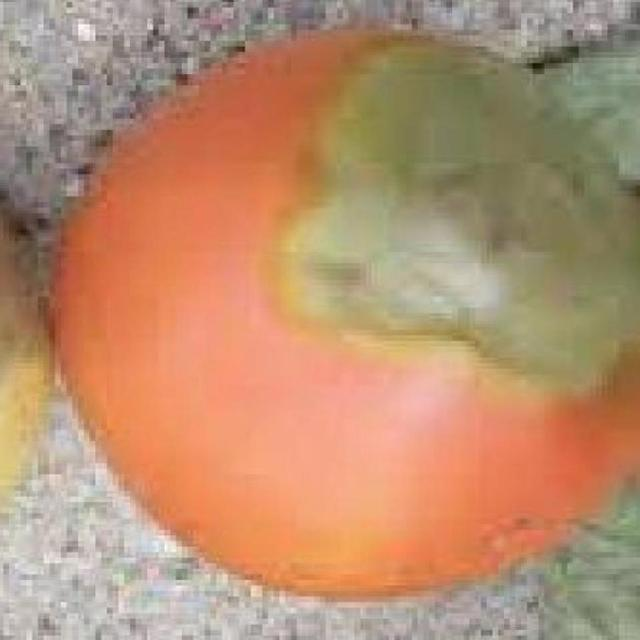Blossom End Rot Fruit: (177, 26, 423, 269)
